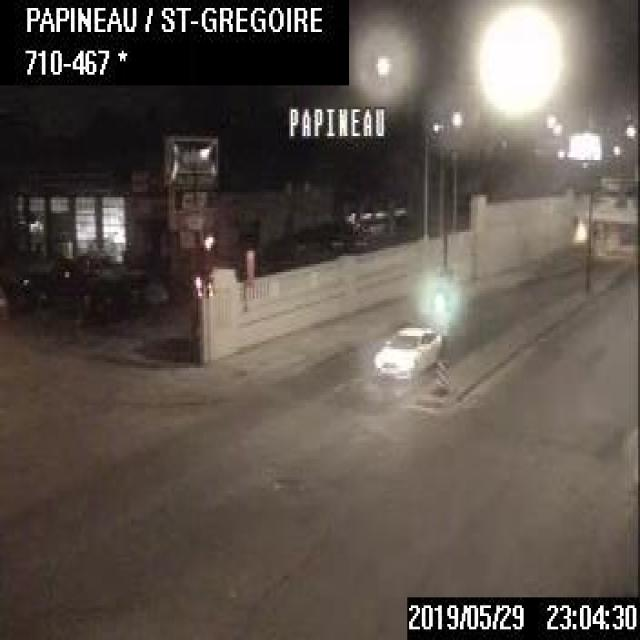vehicle: (373, 323, 438, 376)
